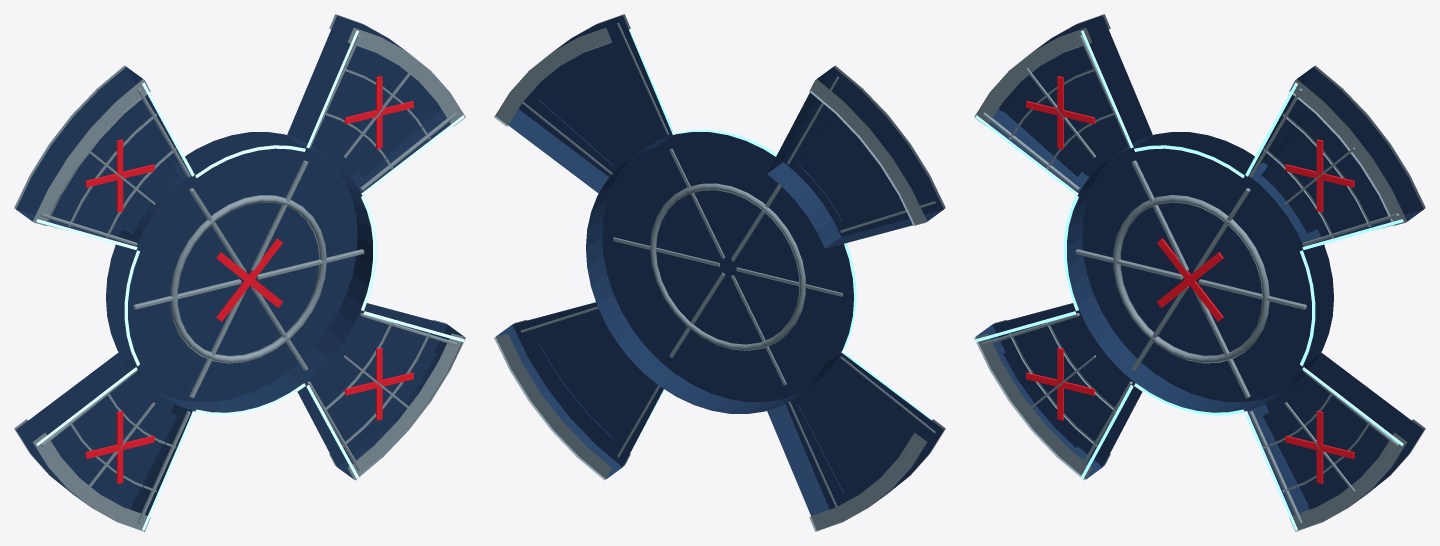
Rendered from foundry-panel-fun6-medium.glb.
The picture shows the model from 3 angles, left to right: view 1: azimuth 30°, elevation 25°; view 2: azimuth 150°, elevation 25°; view 3: azimuth 330°, elevation 25°; orthographic projection.
Parts seen in each view (by area): view 1: RENDER_PANEL_SHELL, RENDER_PANEL_FRAME, RENDER_PANEL_HAZARD, RENDER_PANEL_SIGNAL; view 2: RENDER_PANEL_SHELL, RENDER_PANEL_FRAME, RENDER_PANEL_SIGNAL; view 3: RENDER_PANEL_SHELL, RENDER_PANEL_FRAME, RENDER_PANEL_HAZARD, RENDER_PANEL_SIGNAL.
Boxes of the visible parts, bbox=[...] form: RENDER_PANEL_SHELL: bbox=[16, 15, 463, 515]; RENDER_PANEL_FRAME: bbox=[14, 14, 465, 531]; RENDER_PANEL_HAZARD: bbox=[85, 76, 413, 483]; RENDER_PANEL_SIGNAL: bbox=[36, 30, 464, 530]; RENDER_PANEL_SHELL: bbox=[496, 15, 943, 515]; RENDER_PANEL_FRAME: bbox=[494, 14, 945, 531]; RENDER_PANEL_SIGNAL: bbox=[558, 29, 932, 445]; RENDER_PANEL_SHELL: bbox=[976, 15, 1423, 515]; RENDER_PANEL_FRAME: bbox=[974, 14, 1425, 531]; RENDER_PANEL_HAZARD: bbox=[1026, 76, 1354, 483]; RENDER_PANEL_SIGNAL: bbox=[975, 30, 1403, 530].
Size of what is drawn, in the model's own units: 36.84 by 36.84 by 3.09.
